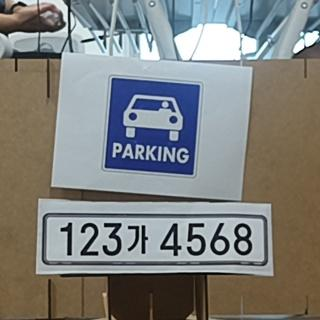normal: (43, 213, 267, 265)
